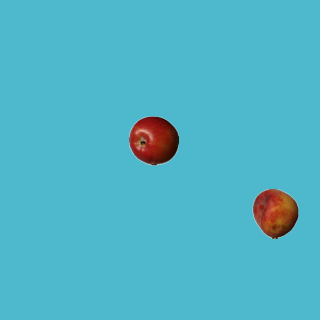Apple Braeburn: (128, 115, 178, 165)
Peach: (250, 188, 300, 238)
